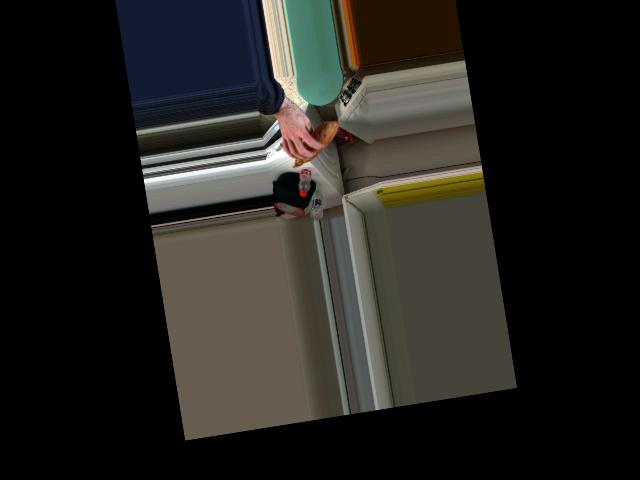sweet_potato: (282, 121, 340, 167)
